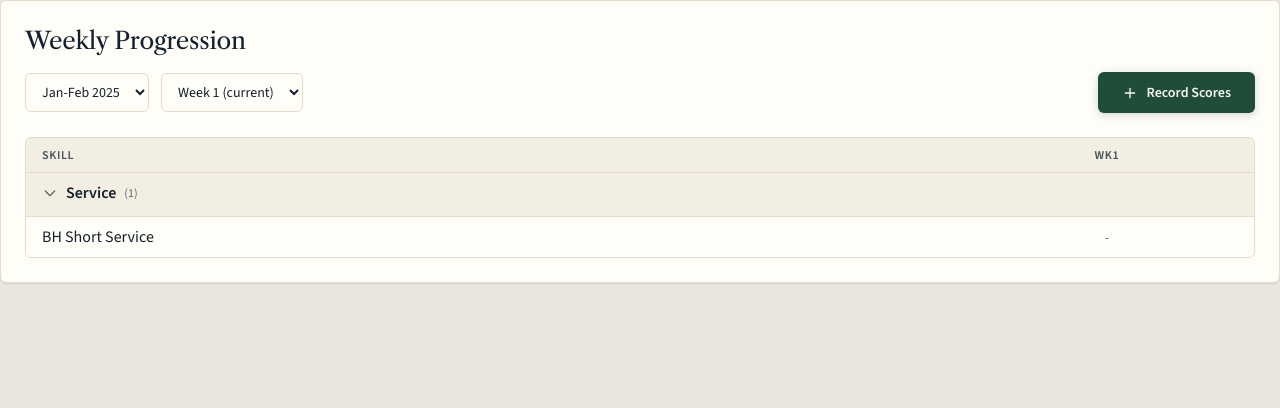
Test: SkillProgressionTracker › shows a validation error when saving with no skills scored
What coordinates should you click on to do the following:
click the button with test id "record-scores-button"
I would click on:
 (1177, 93)
Its box is [1098,72,1255,113].
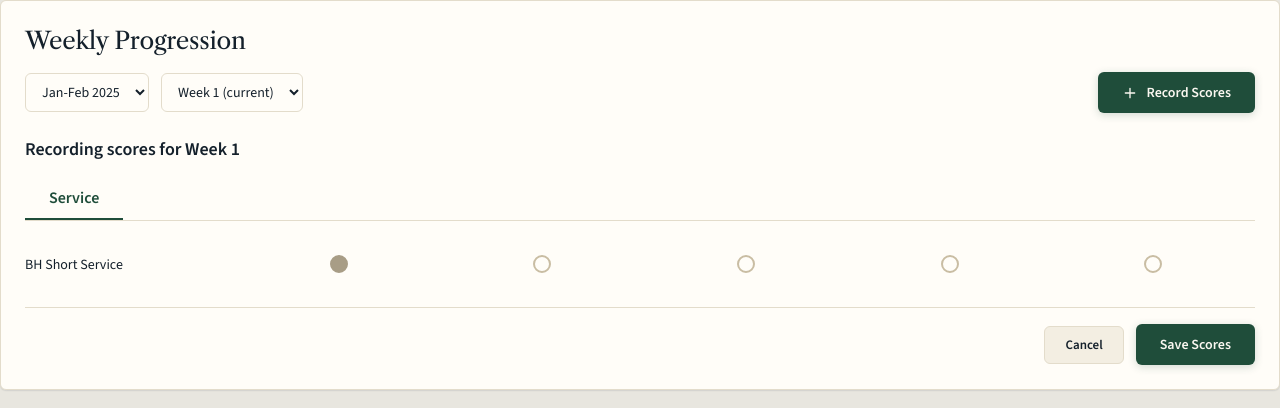
What coordinates should you click on to do the following:
click the button with test id "save-scores-button"
I would click on:
 (1195, 345)
Its box is [1136,324,1255,365].
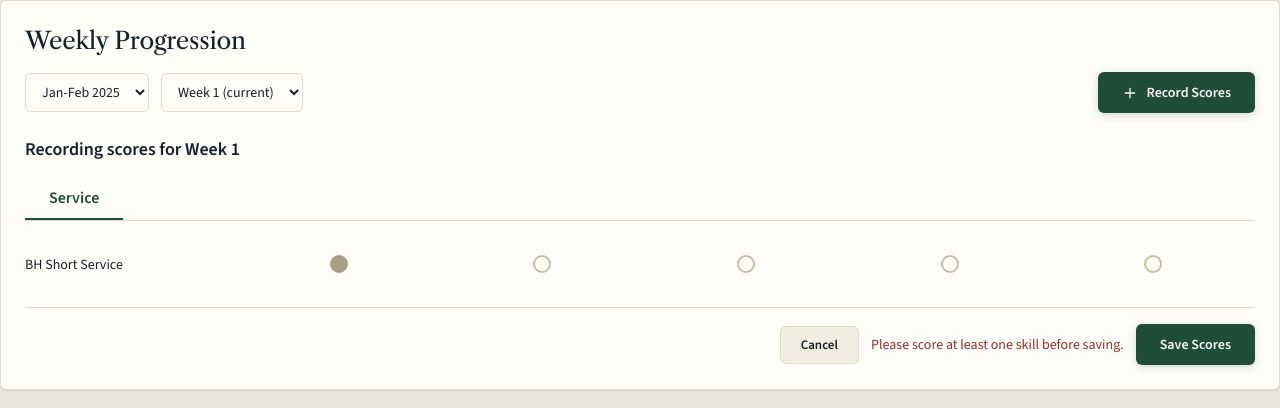
Check: the text "Please score at least one skill before saving." is shown, box [871,334,1124,355]
